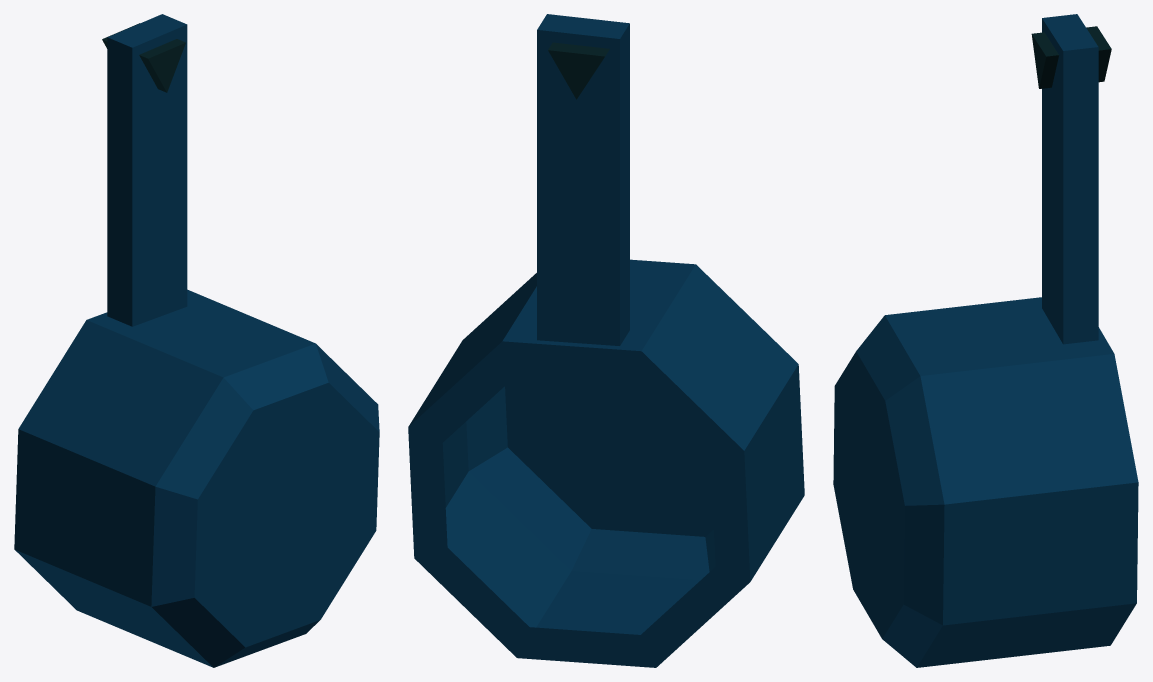
The model's file is KITCHEN INVENTORY 3.fbx.
3 views of the same model, side by side, from view 1: azimuth 30°, elevation 25°; view 2: azimuth 150°, elevation 25°; view 3: azimuth 270°, elevation 25° (orthographic). The views are drawn at different scales.
Visible parts, largest first — view 1: KITCHEN_INVENTORY_3; view 2: KITCHEN_INVENTORY_3; view 3: KITCHEN_INVENTORY_3.
Boxes of the visible parts, x1,y1,x2,y2 form: KITCHEN_INVENTORY_3: [14, 14, 379, 667]; KITCHEN_INVENTORY_3: [408, 14, 804, 667]; KITCHEN_INVENTORY_3: [833, 14, 1138, 667].
Bounding box in the file's own units: 30.77 × 53.57 × 25.
1 material, 1 textured.
